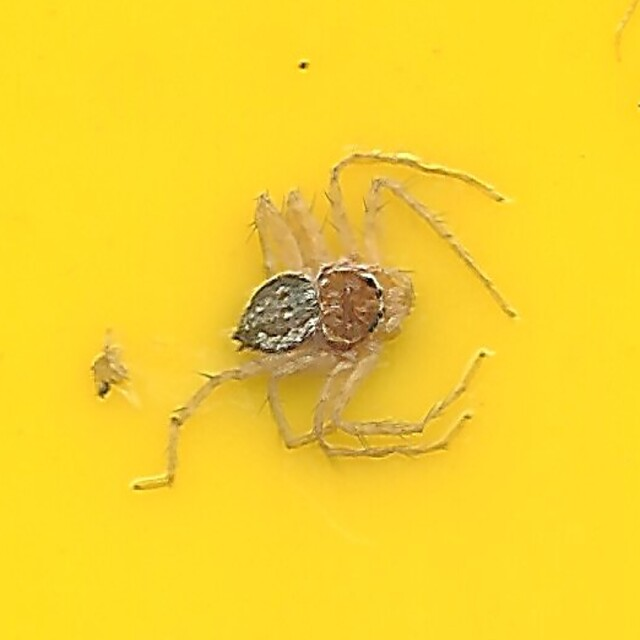Araneae: (123, 147, 517, 493)
